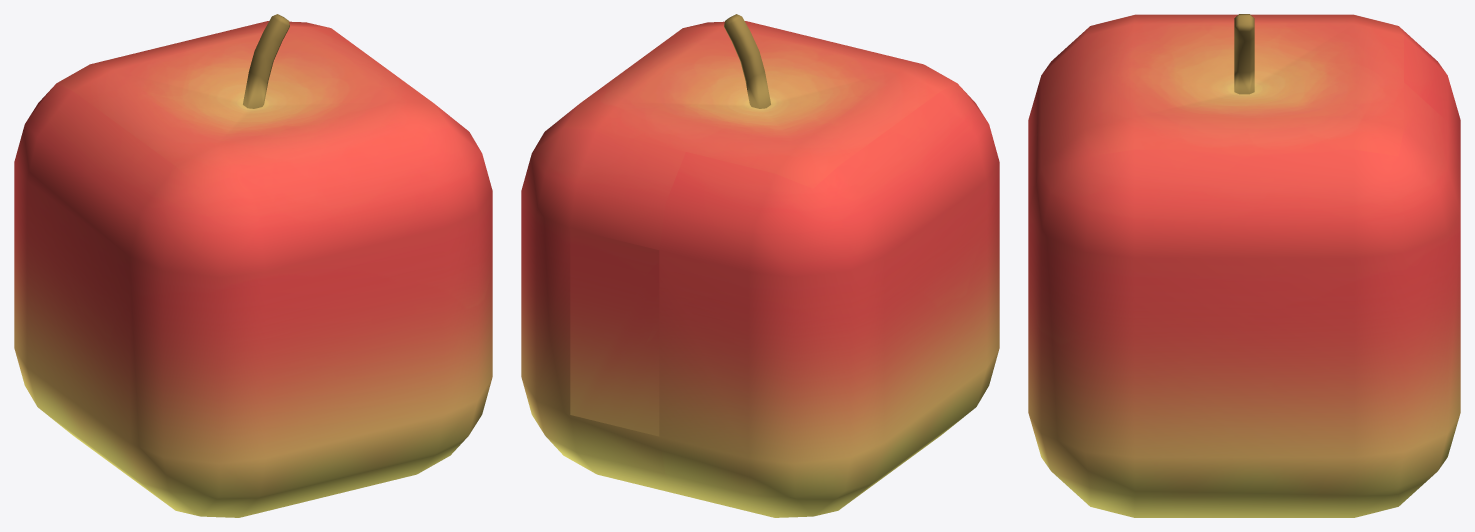
Rendered from blockNormal.fbx.
3 views of the same model, side by side, from view 1: azimuth 30°, elevation 25°; view 2: azimuth 150°, elevation 25°; view 3: azimuth 270°, elevation 25° (orthographic). The views are drawn at different scales.
Visible parts, largest first — view 1: pCube1; view 2: pCube1; view 3: pCube1.
Part boxes in pixels (bbox=[...]): pCube1: bbox=[14, 14, 492, 517]; pCube1: bbox=[521, 14, 999, 517]; pCube1: bbox=[1028, 14, 1460, 517].
Bounding box in the file's own units: 82.1 × 96.44 × 82.1.
